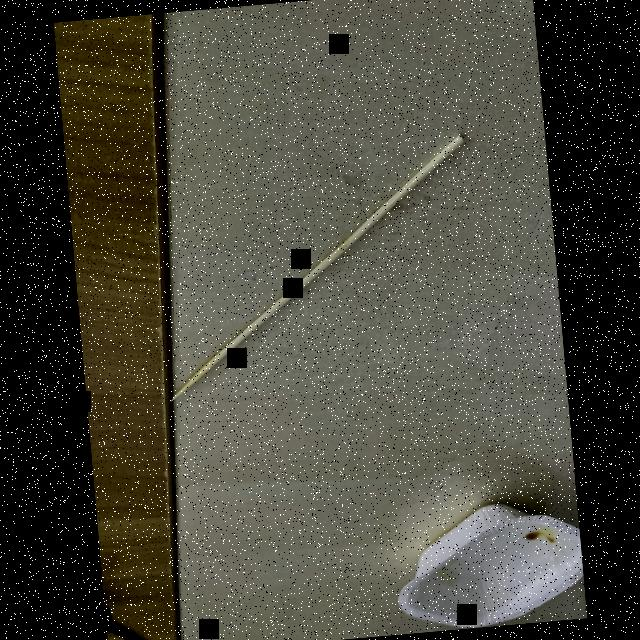cardboard_bowl: (372, 464, 584, 636)
stick: (134, 105, 502, 415)
